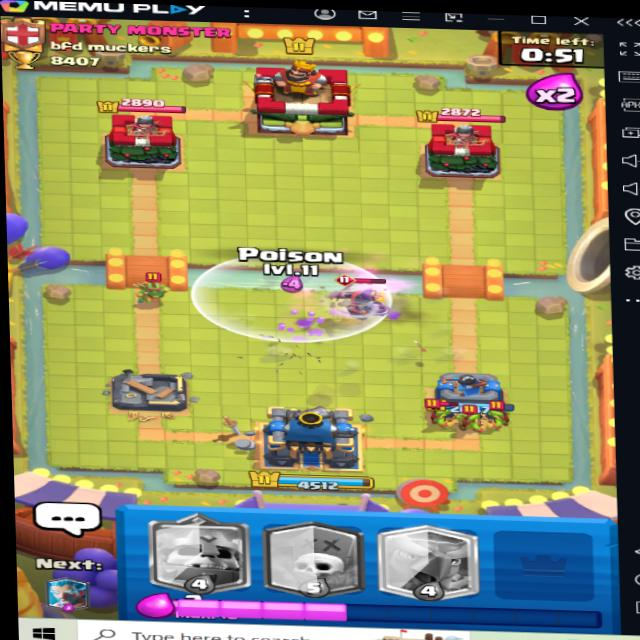evo-knight: (330, 277, 409, 316)
goblin: (448, 402, 487, 440), (414, 400, 456, 426), (487, 402, 514, 430)
spear-goblin: (122, 273, 173, 307)
